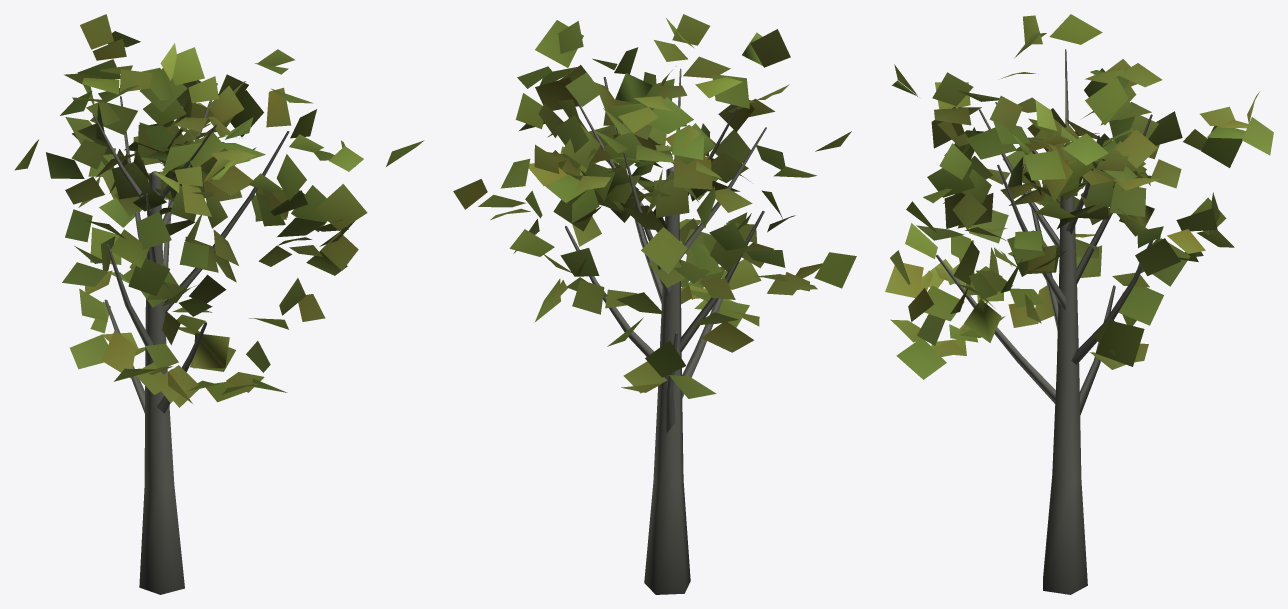
File: beech-b.lod2.glb
The picture shows the model from 3 angles, left to right: view 1: azimuth 30°, elevation 25°; view 2: azimuth 150°, elevation 25°; view 3: azimuth 270°, elevation 25°; orthographic projection. The views are drawn at different scales.
Bounding box in the file's own units: 6.11 × 10.23 × 6.33.
